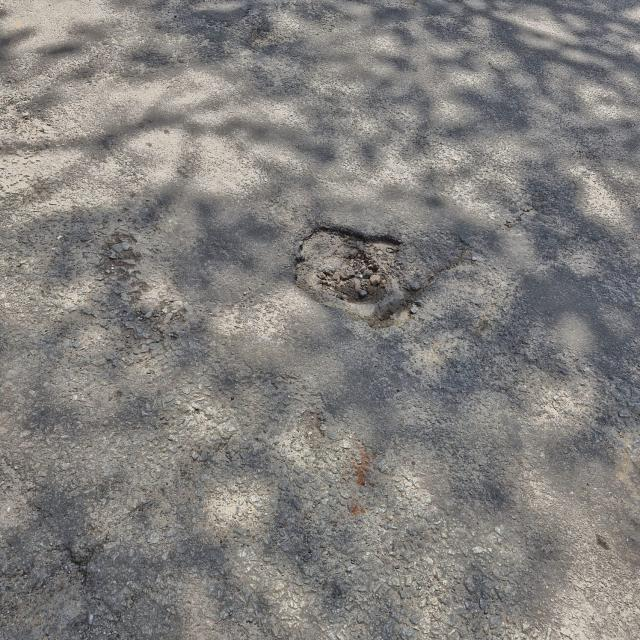pothole: (93, 211, 198, 367), (0, 486, 106, 640), (287, 216, 430, 326), (162, 0, 291, 59)
